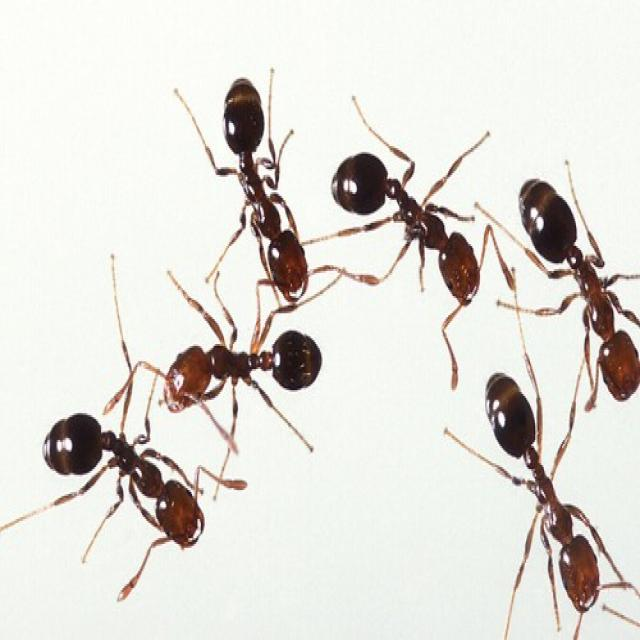ants: (441, 349, 626, 632), (30, 377, 232, 586), (490, 152, 640, 426), (320, 115, 503, 328), (208, 65, 322, 319), (157, 302, 340, 427)
